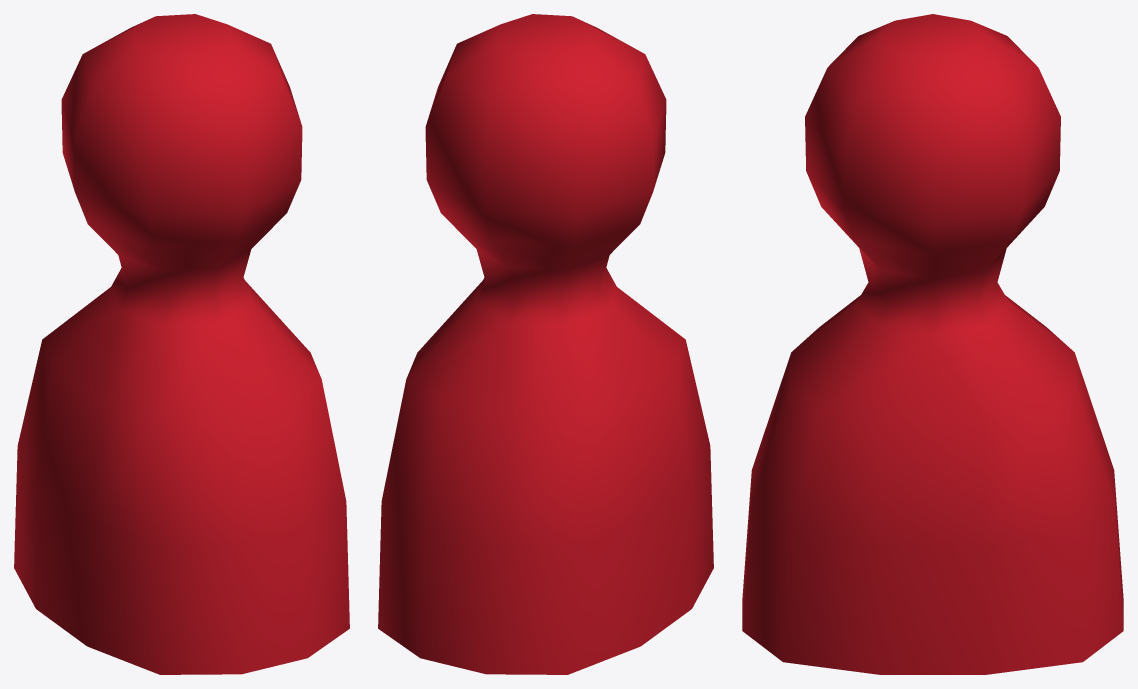
Rendered from Pawn_Red.fbx.
The picture shows the model from 3 angles, left to right: view 1: azimuth 30°, elevation 25°; view 2: azimuth 150°, elevation 25°; view 3: azimuth 270°, elevation 25°; orthographic projection. The views are drawn at different scales.
Visible parts, largest first — view 1: Pawn_Red; view 2: Pawn_Red; view 3: Pawn_Red.
Boxes of the visible parts, left/top/right/bottom form: Pawn_Red: left=14, top=14, right=349, bottom=674; Pawn_Red: left=378, top=14, right=713, bottom=674; Pawn_Red: left=742, top=14, right=1123, bottom=674.
Bounding box in the file's own units: 63.06 × 141 × 84.16.
